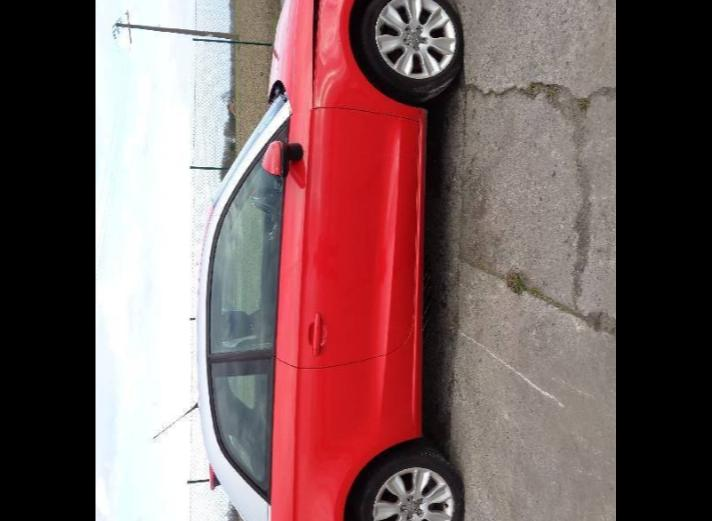Broken part: (310, 0, 323, 104)
